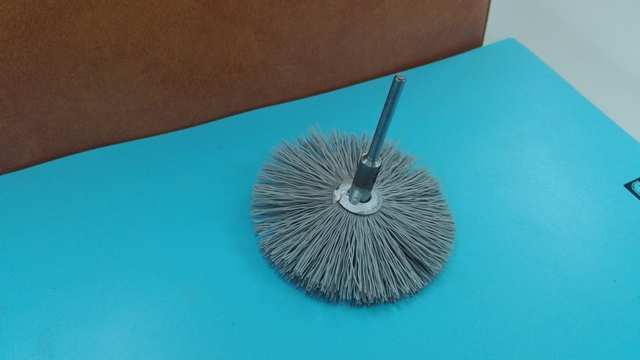TOOL: (114, 60, 550, 329), (247, 77, 475, 311), (240, 124, 475, 308)
